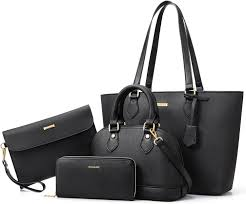bag: (51, 153, 141, 201)
